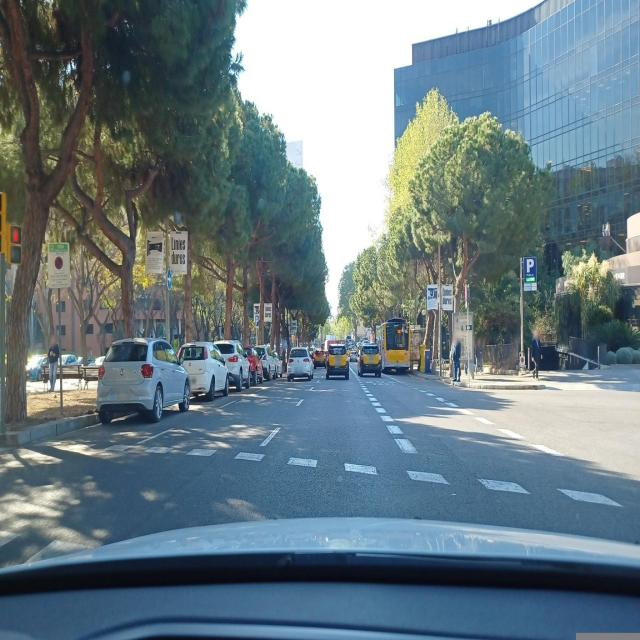forb_stopping: (54, 254, 64, 270)
